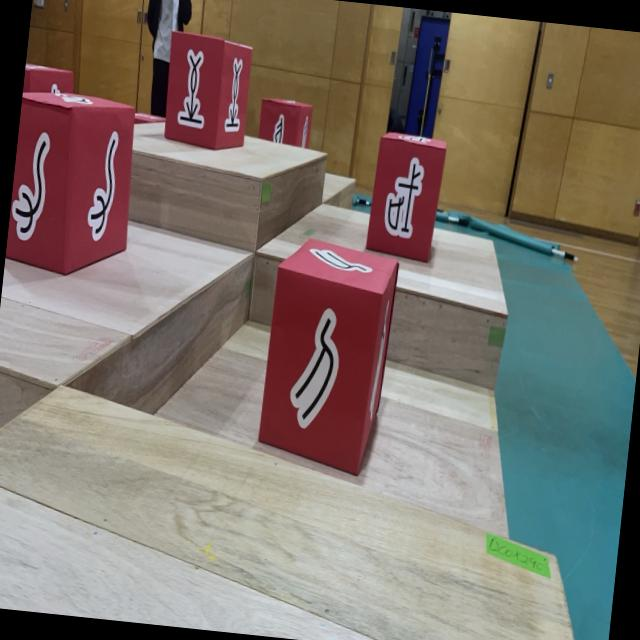10: (286, 303, 344, 433), (308, 246, 374, 276)
11: (272, 113, 285, 144), (300, 115, 308, 148)
13: (9, 128, 52, 242), (84, 127, 122, 244)
5: (382, 153, 426, 240)
7: (176, 47, 212, 130), (223, 55, 246, 134)
fighter: (254, 234, 401, 479), (4, 86, 142, 282), (159, 29, 254, 152), (364, 130, 448, 264), (256, 96, 314, 150), (22, 62, 74, 98)
